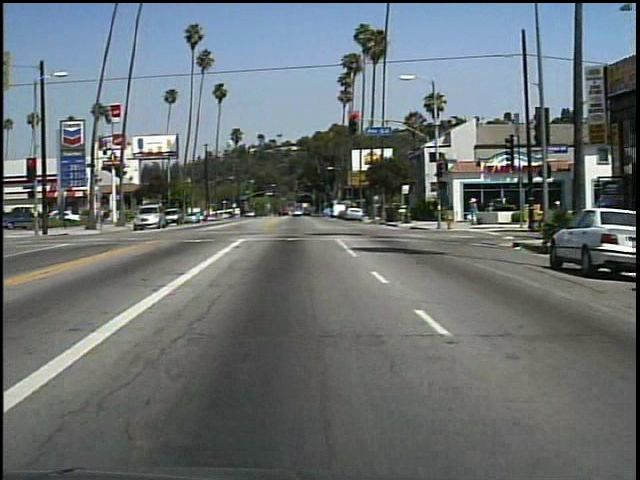person: (544, 194, 568, 235), (465, 193, 481, 227)
